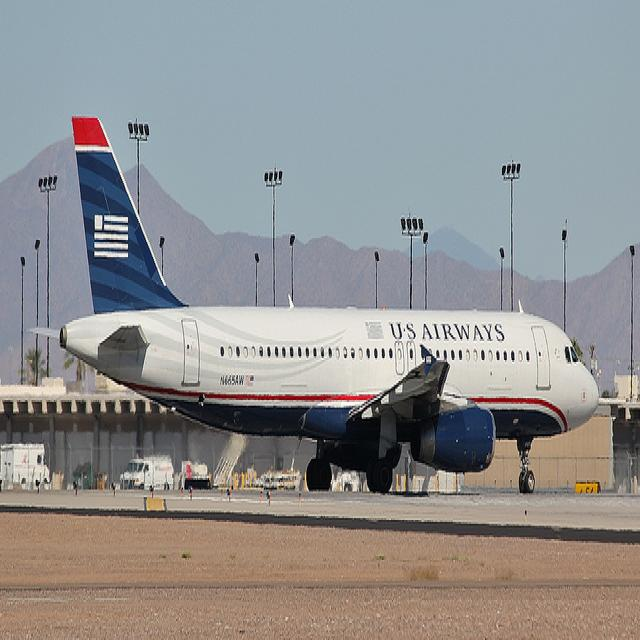airplane: (26, 114, 599, 497)
